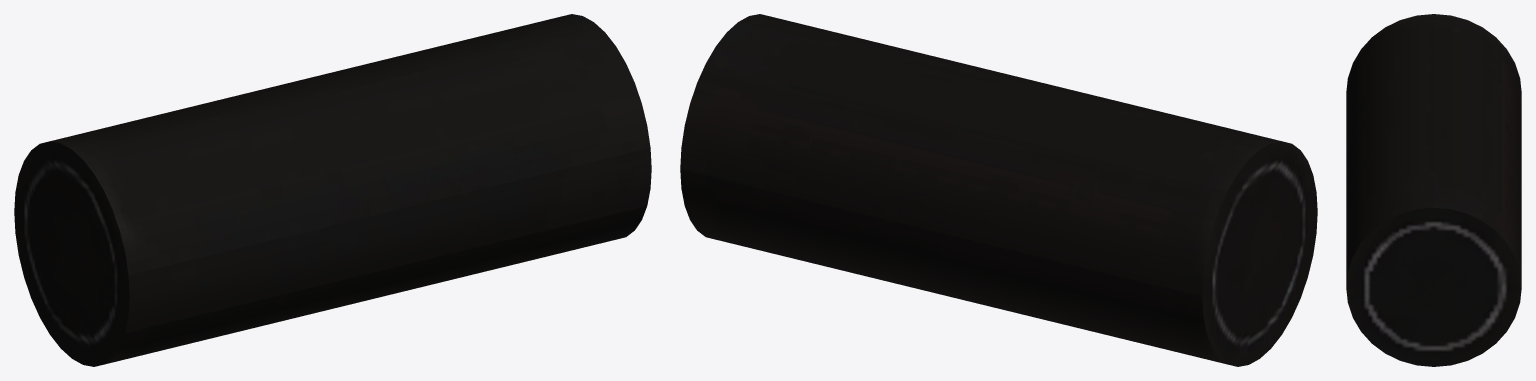
The model's file is plunger__grip_0.glb.
3 views of the same model, side by side, from view 1: azimuth 30°, elevation 25°; view 2: azimuth 150°, elevation 25°; view 3: azimuth 270°, elevation 25° (orthographic). The views are drawn at different scales.
Parts seen in each view (by area): view 1: geometry_0; view 2: geometry_0; view 3: geometry_0.
Boxes of the visible parts, x1=… form: geometry_0: x1=14, y1=14, x2=651, y2=366; geometry_0: x1=680, y1=14, x2=1317, y2=366; geometry_0: x1=1346, y1=14, x2=1521, y2=366.
Bounding box in the file's own units: 0.094 × 0.036 × 0.036.
Materials: 1 (1 with a texture image).
